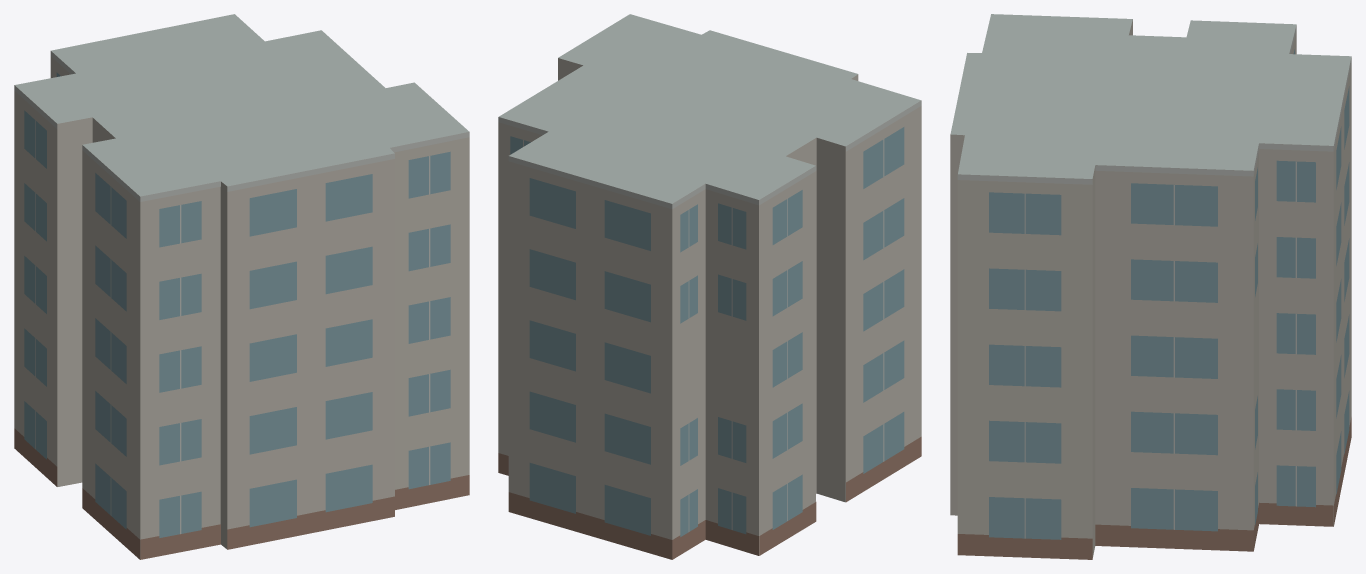
File: survey-upis-32496358.glb
3 renders of one model, left to right at view 1: azimuth 30°, elevation 25°; view 2: azimuth 150°, elevation 25°; view 3: azimuth 270°, elevation 25°, orthographic. The views are drawn at different scales.
Parts seen in each view (by area): view 1: survey-upis-32496358.tmp; view 2: survey-upis-32496358.tmp; view 3: survey-upis-32496358.tmp.
Boxes of the visible parts, left/top/right/bottom form: survey-upis-32496358.tmp: left=14, top=14, right=469, bottom=559; survey-upis-32496358.tmp: left=498, top=14, right=921, bottom=559; survey-upis-32496358.tmp: left=950, top=14, right=1351, bottom=559.
Size of the model in its own units: 15.07 by 16.2 by 15.48.
